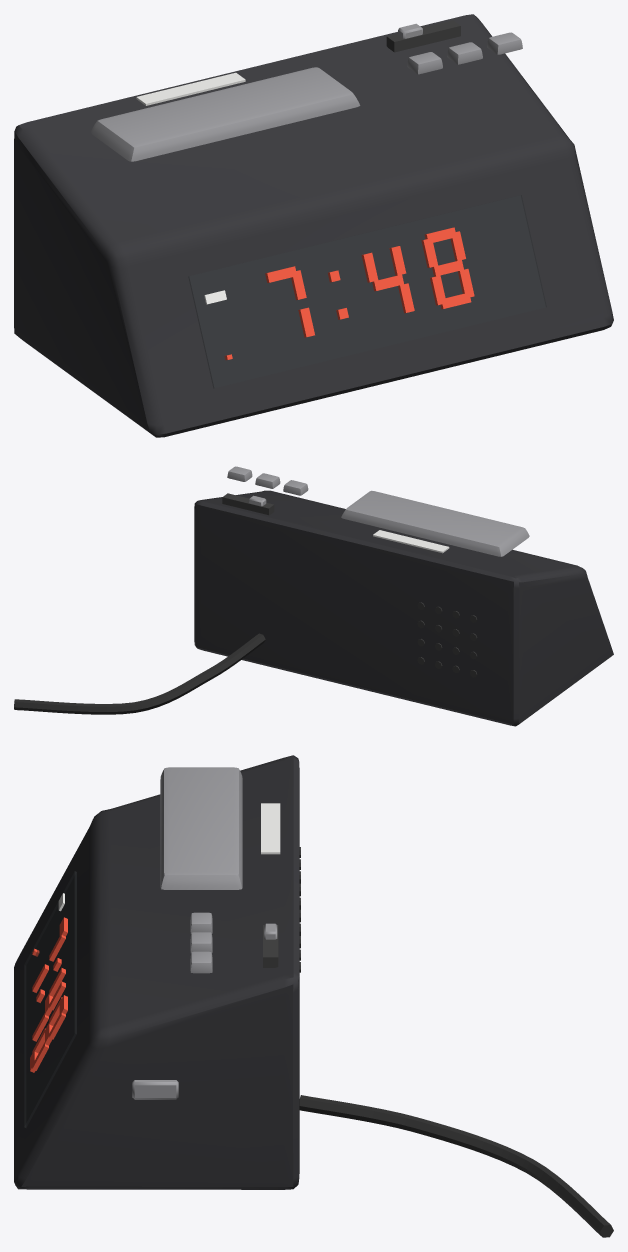
File: electronics_alarm_clock.fbx
3 views of the same model, one above another, from view 1: azimuth 30°, elevation 25°; view 2: azimuth 150°, elevation 25°; view 3: azimuth 270°, elevation 25° (orthographic). The views are drawn at different scales.
Parts seen in each view (by area): view 1: electronics_alarm_clock; view 2: electronics_alarm_clock; view 3: electronics_alarm_clock.
Part boxes in pixels (x1,y1,x2,y2): electronics_alarm_clock: (14, 14, 613, 437); electronics_alarm_clock: (14, 466, 613, 726); electronics_alarm_clock: (14, 755, 613, 1237).
Bounding box in the file's own units: 0.1708 × 0.065 × 0.1561.
